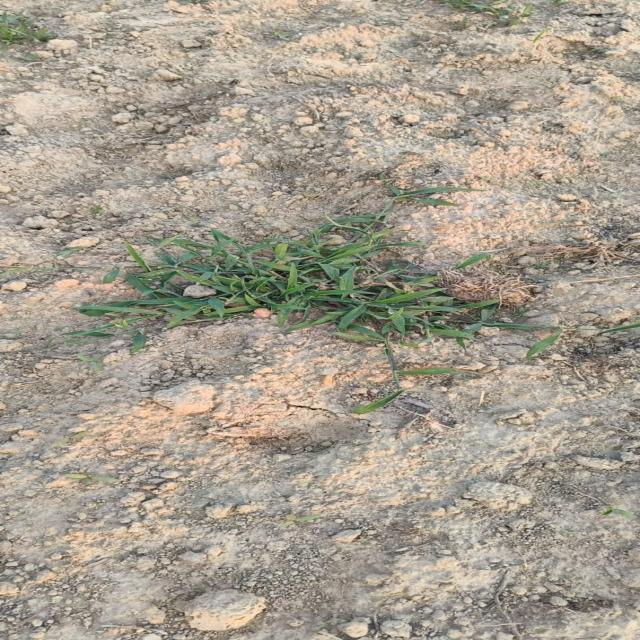plant: (69, 214, 494, 345)
